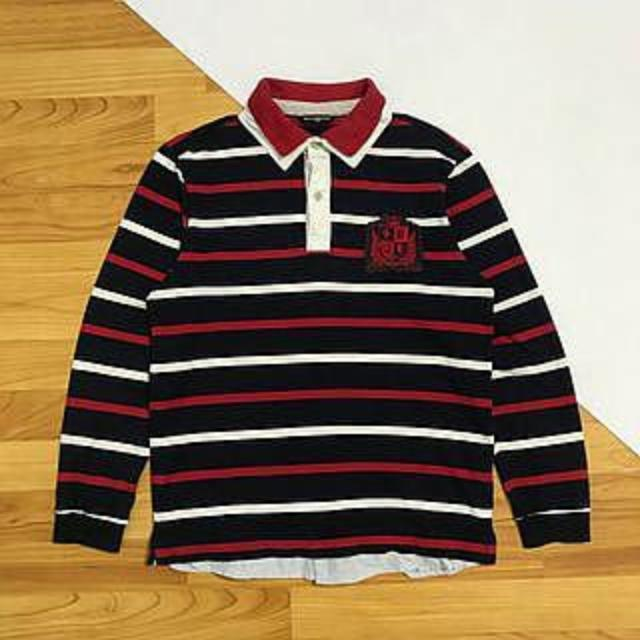SHIRT: (32, 63, 600, 586)
